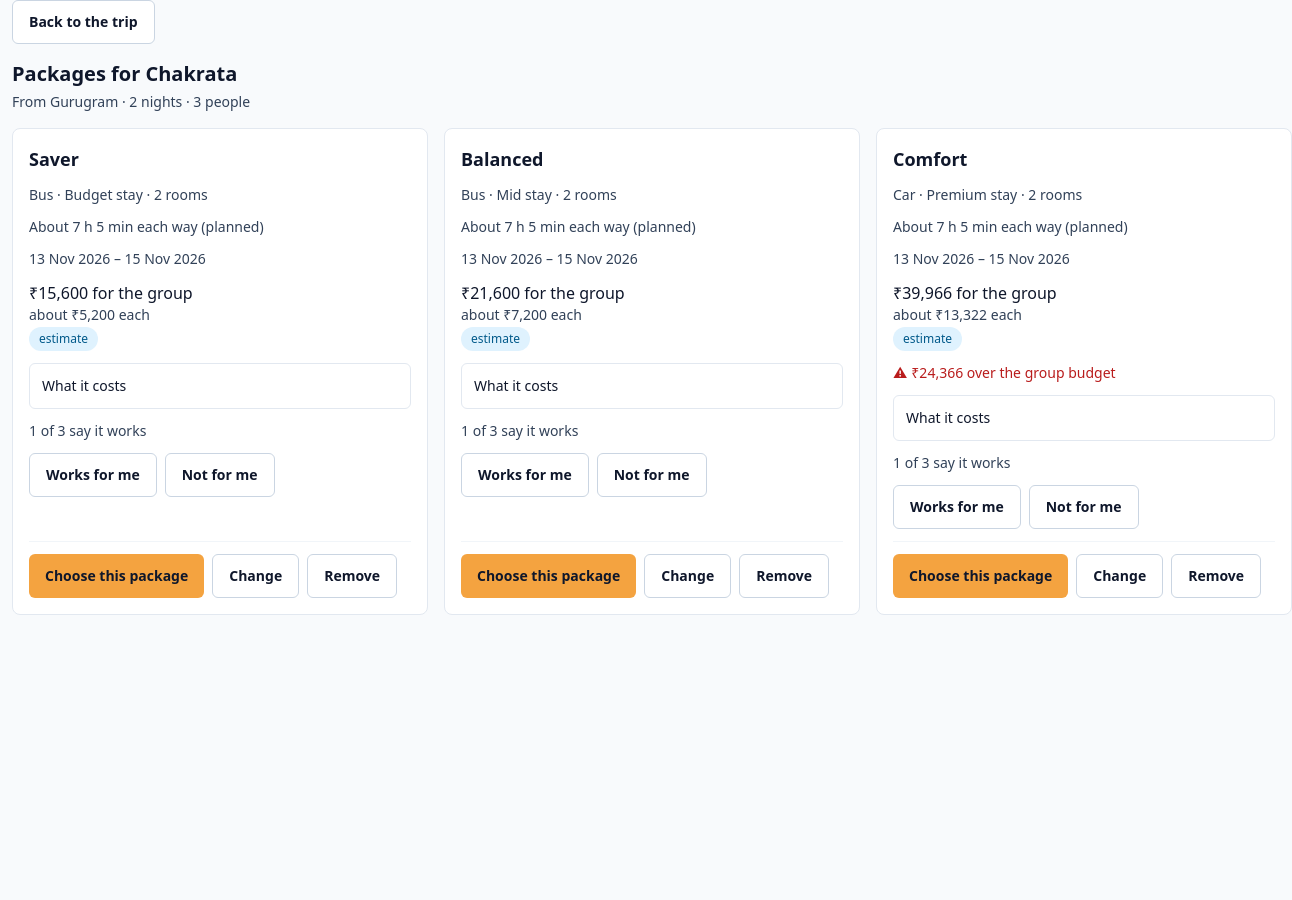
Test: PackagesPage › a 422 on Change shows the API message
This screenshot has width=1292, height=900.
Click the button "Change" below "₹5,200".
click(256, 576)  # box [212,554,299,598]
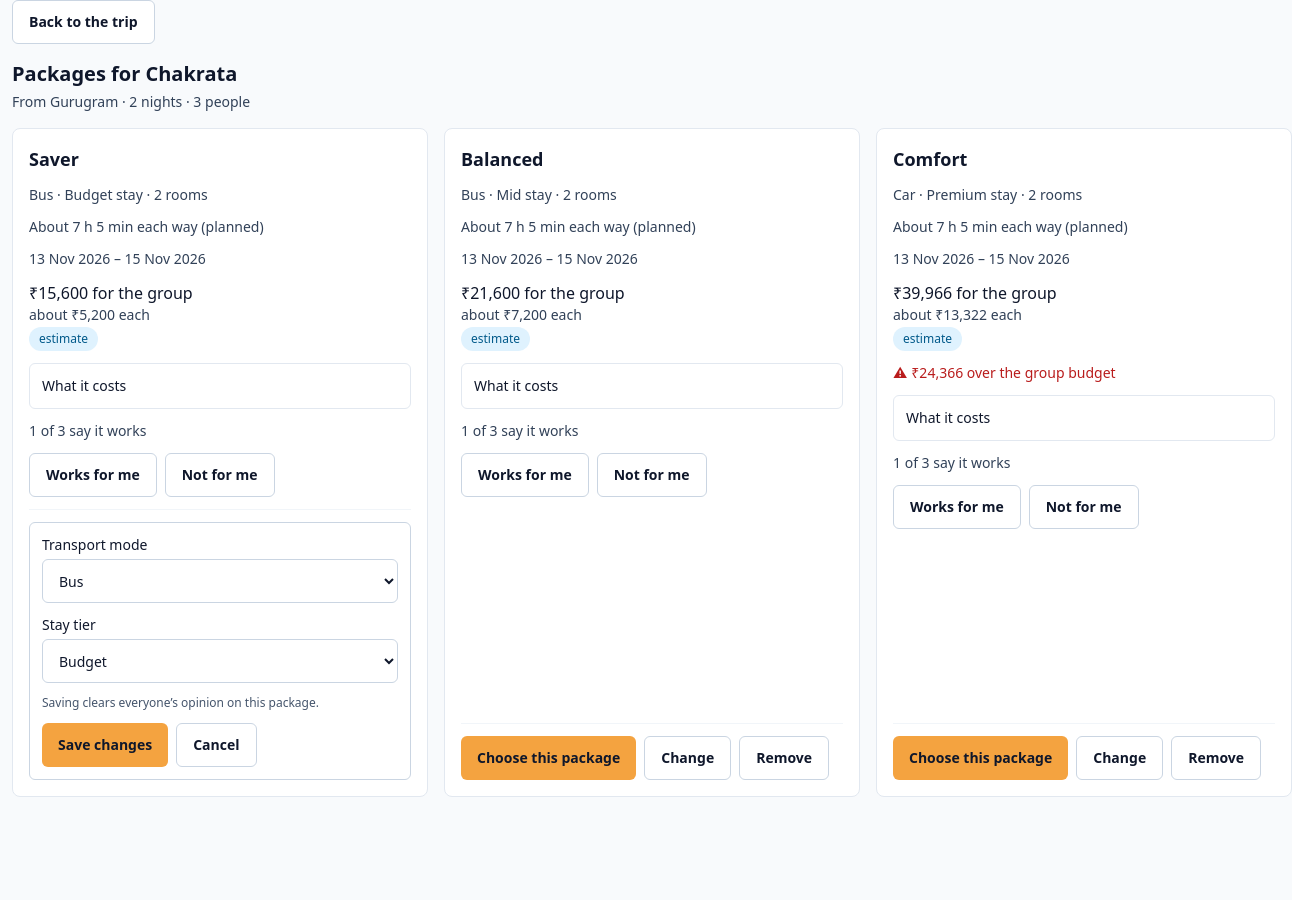
Click the button "Save changes".
click(105, 745)  # box [42,723,168,767]
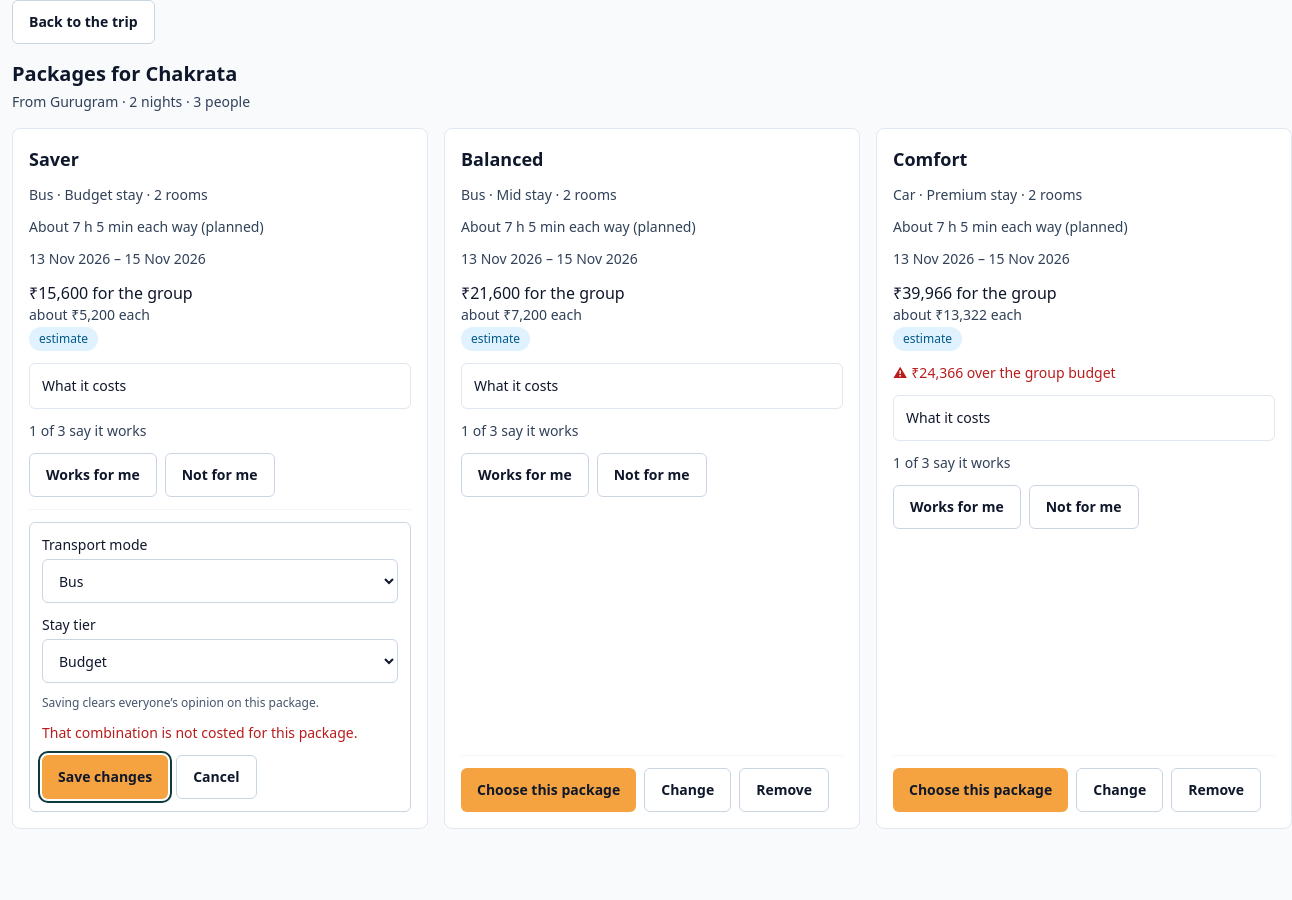
Check: the text "That combination is not costed for this package." is shown, box [42,723,398,743]
